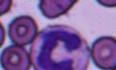N: (32, 23, 90, 70)
